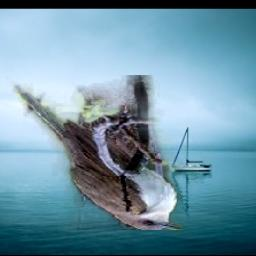Cuckoo: (6, 76, 183, 231)
